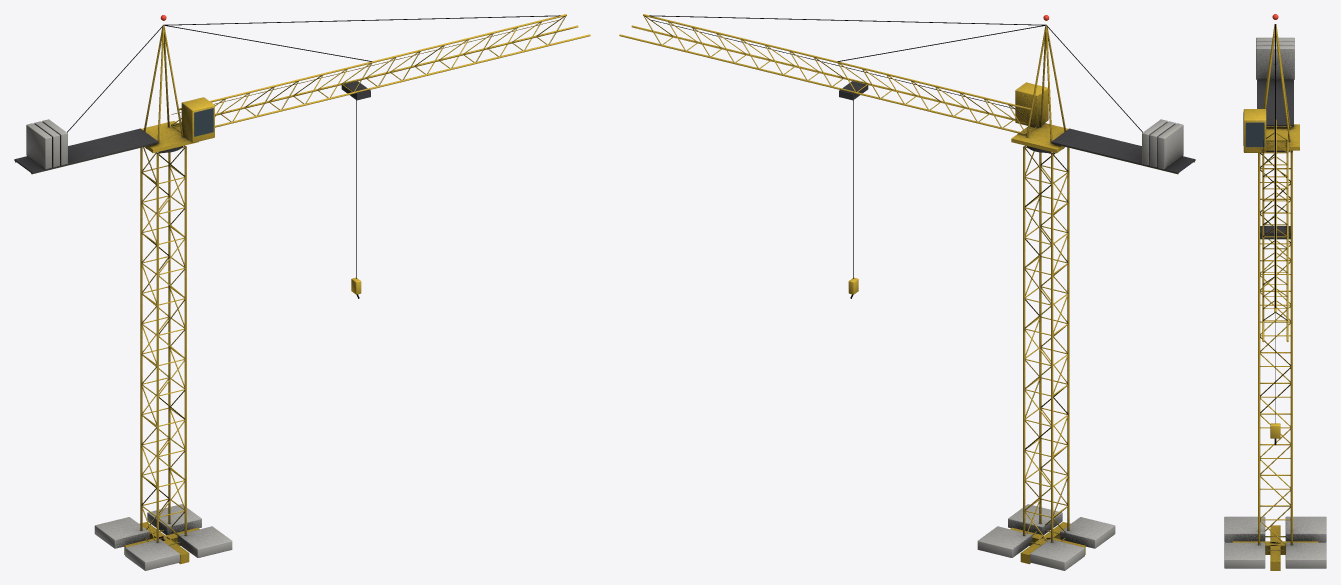
File: crane.glb
The picture shows the model from 3 angles, left to right: view 1: azimuth 30°, elevation 25°; view 2: azimuth 150°, elevation 25°; view 3: azimuth 270°, elevation 25°; orthographic projection.
Visible parts, largest first — view 1: aframe-1-1; view 2: aframe-1-1; view 3: aframe-1-1, cab_glass_f.
Boxes of the visible parts, x1=… form: aframe-1-1: x1=14, y1=14, x2=590, y2=570; aframe-1-1: x1=619, y1=14, x2=1195, y2=570; aframe-1-1: x1=1224, y1=24, x2=1326, y2=570; cab_glass_f: x1=1246, y1=122, x2=1264, y2=146.
Size of the model in its own units: 32 by 29.05 by 5.
Materials: 3 (1 with a texture image).
